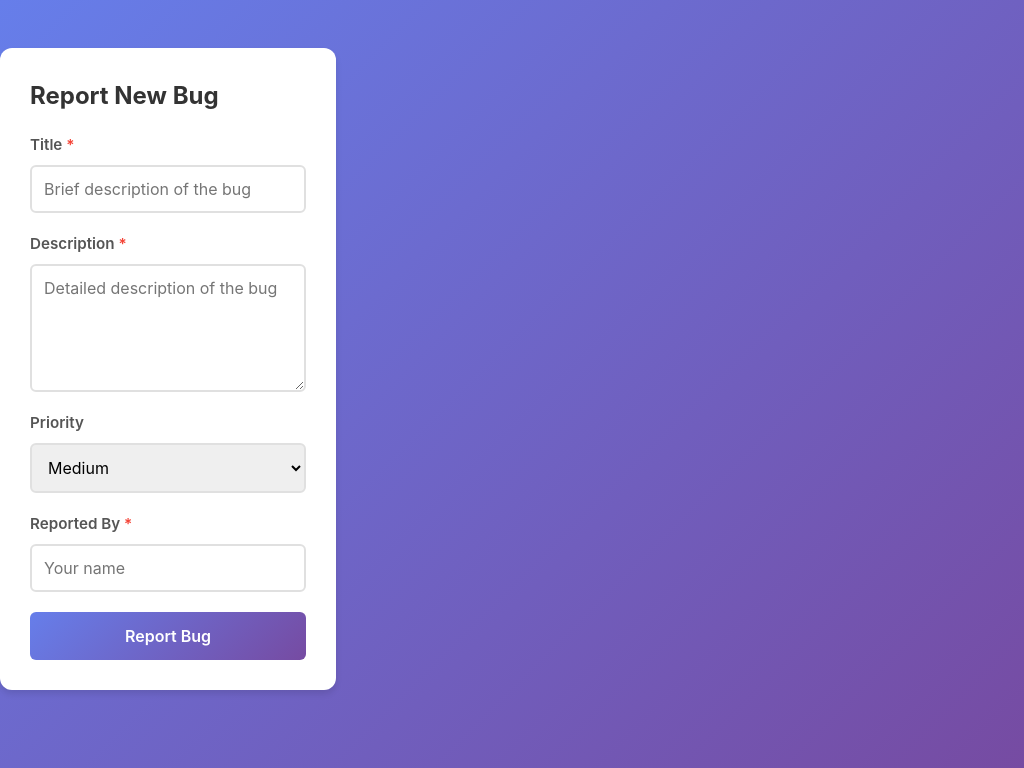
Scenario: BugForm Component › clears errors when user types
# Trigger validation error
Click the button "Report Bug".
click(168, 636)  # box [30,612,306,660]
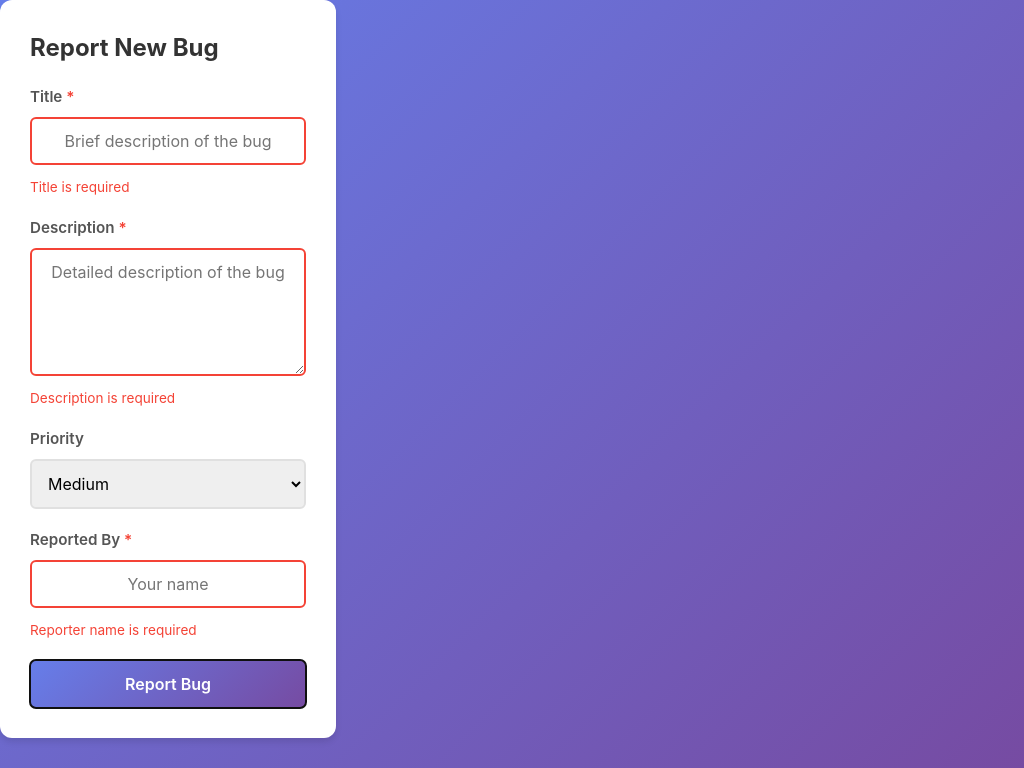
Expected: the text "Title is required" is shown, [30,179,130,195]
# Type in the field
Type "New Title" into the field with test id "title-input".
click(168, 141); type("New Title")  # box [30,117,306,165]
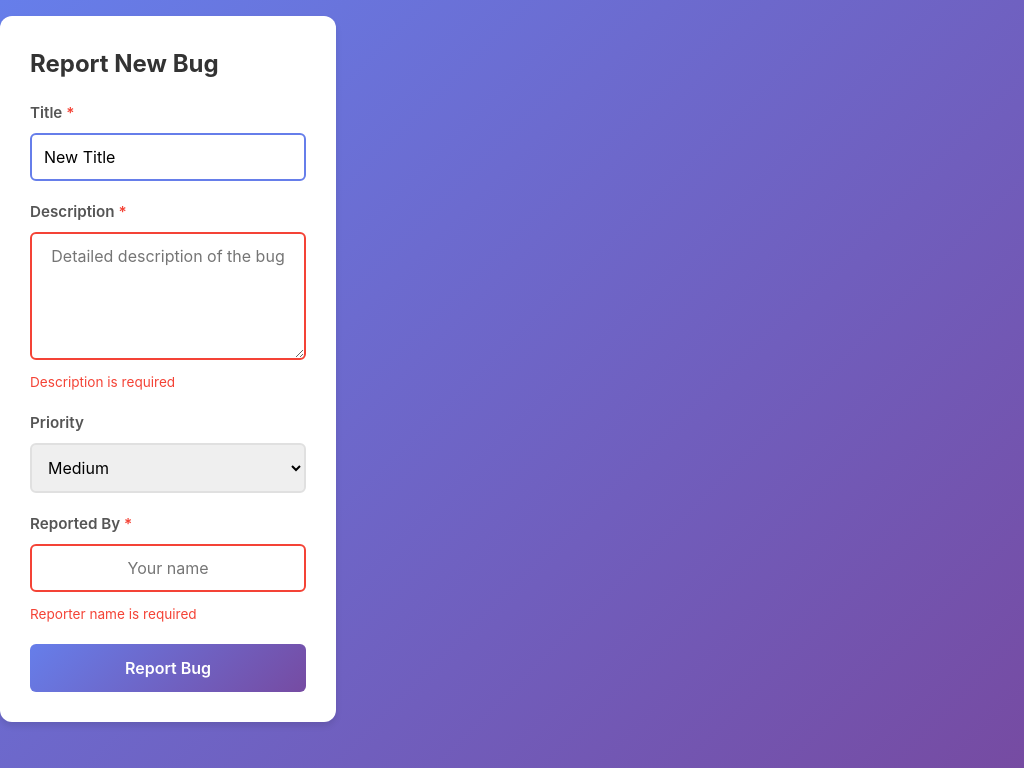
Expected: the text "Title is required" is gone
